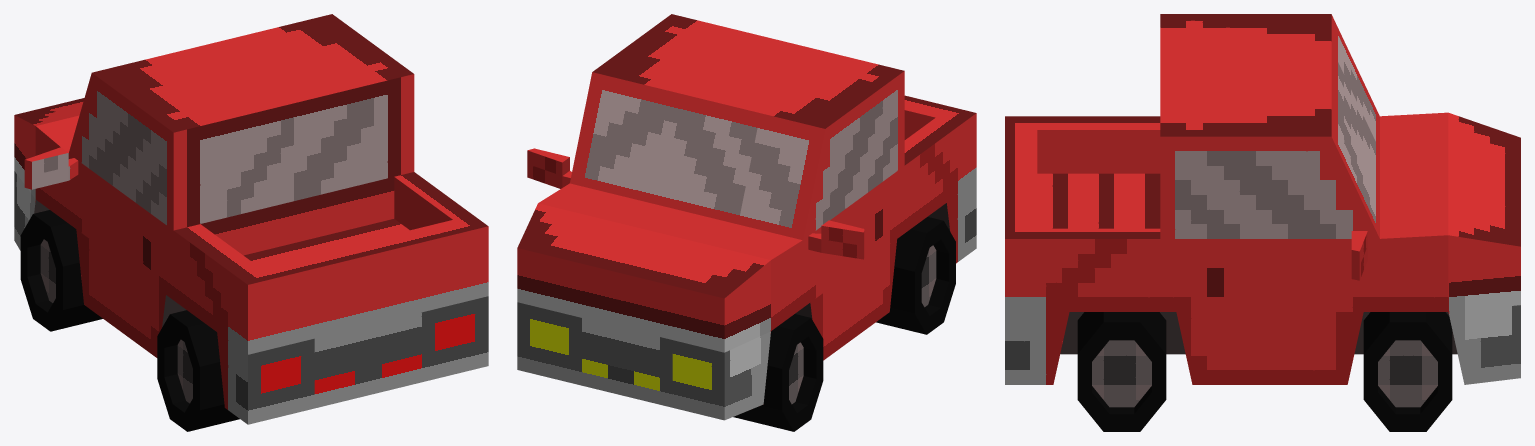
Rendered from little_truck.gltf.
3 views of the same model, side by side, from view 1: azimuth 30°, elevation 25°; view 2: azimuth 150°, elevation 25°; view 3: azimuth 270°, elevation 25° (orthographic). The views are drawn at different scales.
Parts seen in each view (by area): view 1: body, cylinder (×2), mirror_left; view 2: body, cylinder (×2), mirror_left, mirror_right; view 3: body, cylinder (×2), mirror_right.
Boxes of the visible parts, <box> form: body: <box>14,14,488,424</box>; cylinder (×2): <box>20,210,239,431</box>; mirror_left: <box>24,147,78,189</box>; body: <box>517,14,976,420</box>; cylinder (×2): <box>733,217,955,431</box>; mirror_left: <box>808,220,864,259</box>; mirror_right: <box>527,148,571,188</box>; body: <box>1005,14,1520,384</box>; cylinder (×2): <box>1077,312,1452,431</box>; mirror_right: <box>1351,231,1367,280</box>.
Bounding box in the file's own units: 1.62 × 1.23 × 2.
Materials: 1 (1 with a texture image).
